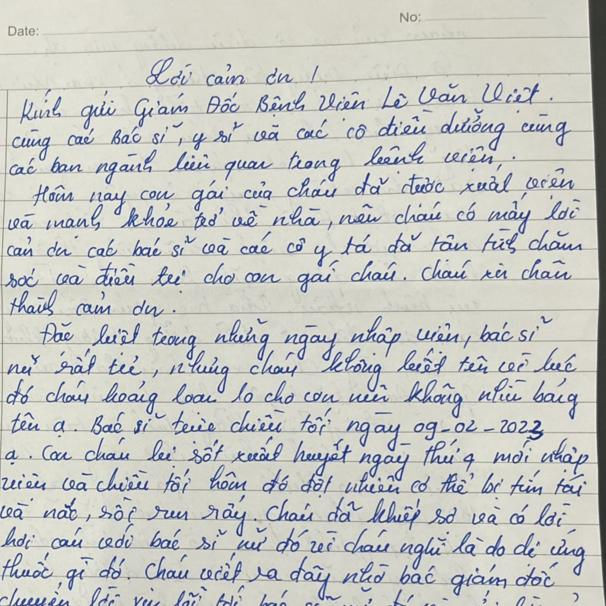text: (0, 524, 587, 577), (0, 550, 563, 602), (6, 109, 565, 158), (5, 346, 589, 392), (5, 377, 585, 422), (3, 435, 593, 478), (34, 165, 578, 211), (0, 494, 573, 537), (39, 316, 557, 363), (19, 80, 543, 126), (5, 138, 503, 185), (1, 464, 591, 502), (5, 256, 575, 295), (3, 203, 586, 239), (5, 230, 587, 265), (9, 408, 549, 443), (143, 53, 321, 90), (5, 287, 175, 323), (5, 24, 43, 37), (395, 11, 427, 25)
